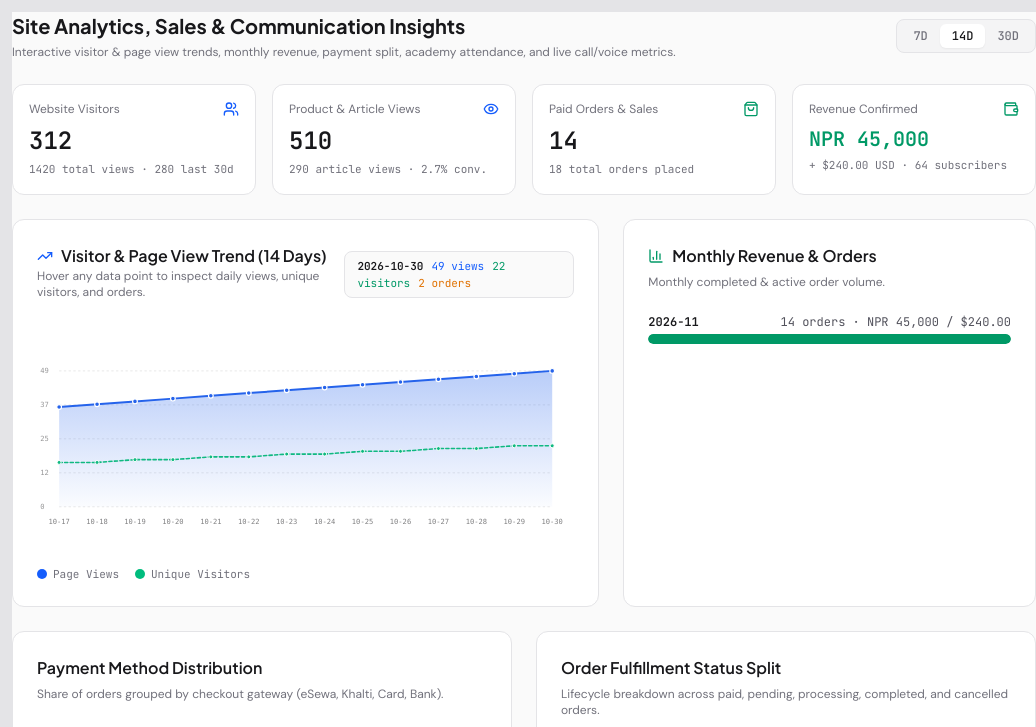
Test: Portfolio Core Flows › renders AdminAnalyticsPanel interactive SVG charts, range toggles, donut distributions, and comm stats
Expected: the picture named "visitor traffic chart for last 14 days" is shown, [37,330,574,554]
Step 1. Click the button "30D" → click(1008, 36), box [985,24,1031,48]
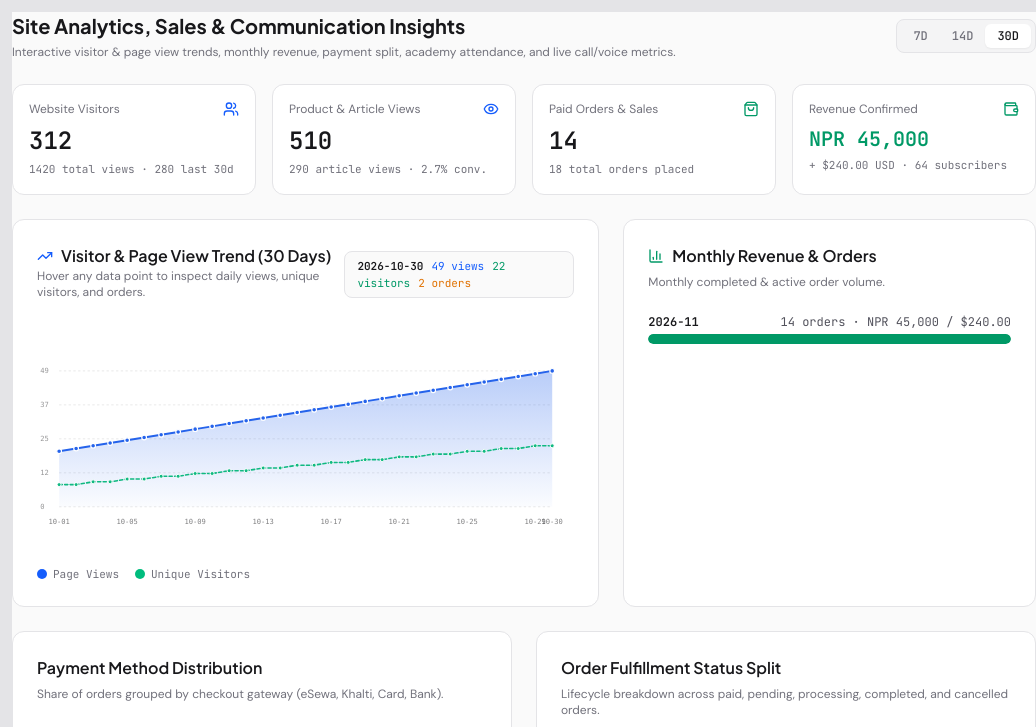
Expected: the picture named "visitor traffic chart for last 30 days" is shown, [37,330,574,554]
